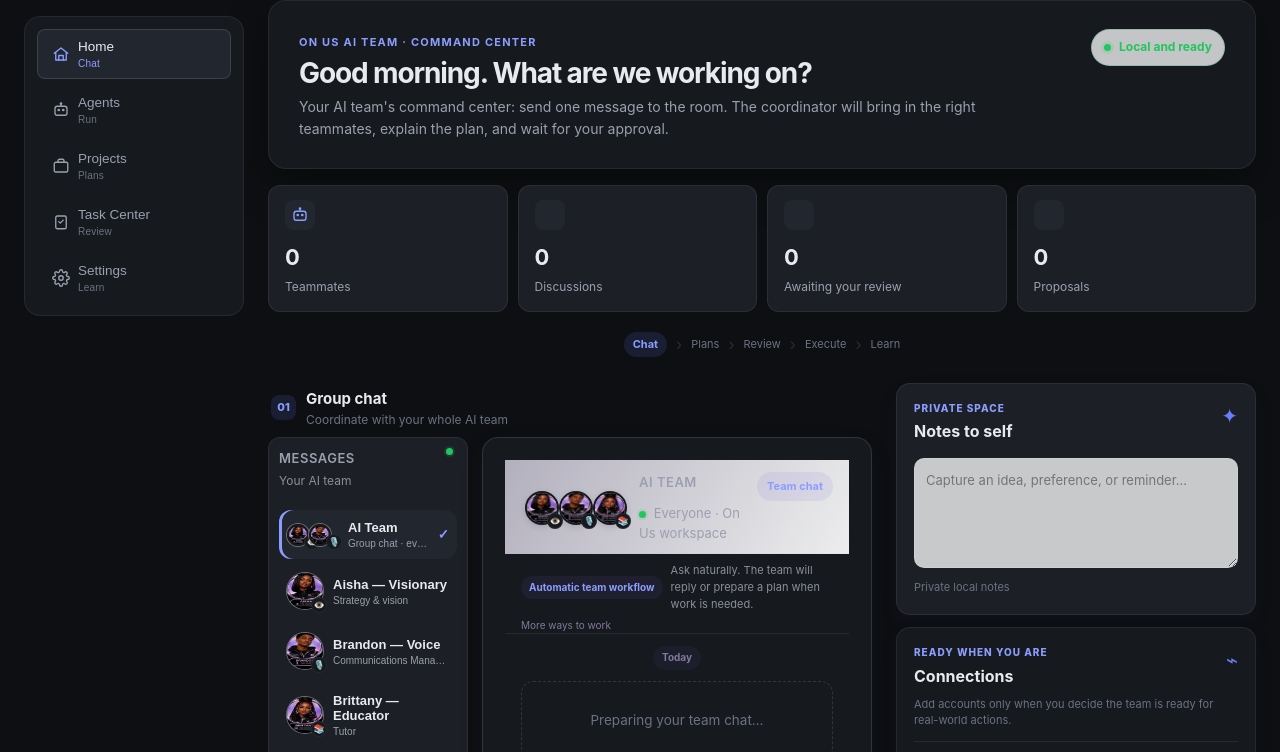
Test: Phase 4 — Task Center, Settings, conversation-to-task › opens the originating conversation from a task in the Task Center
Click the button "Task Center Review": (134, 222) [37,197,231,247]
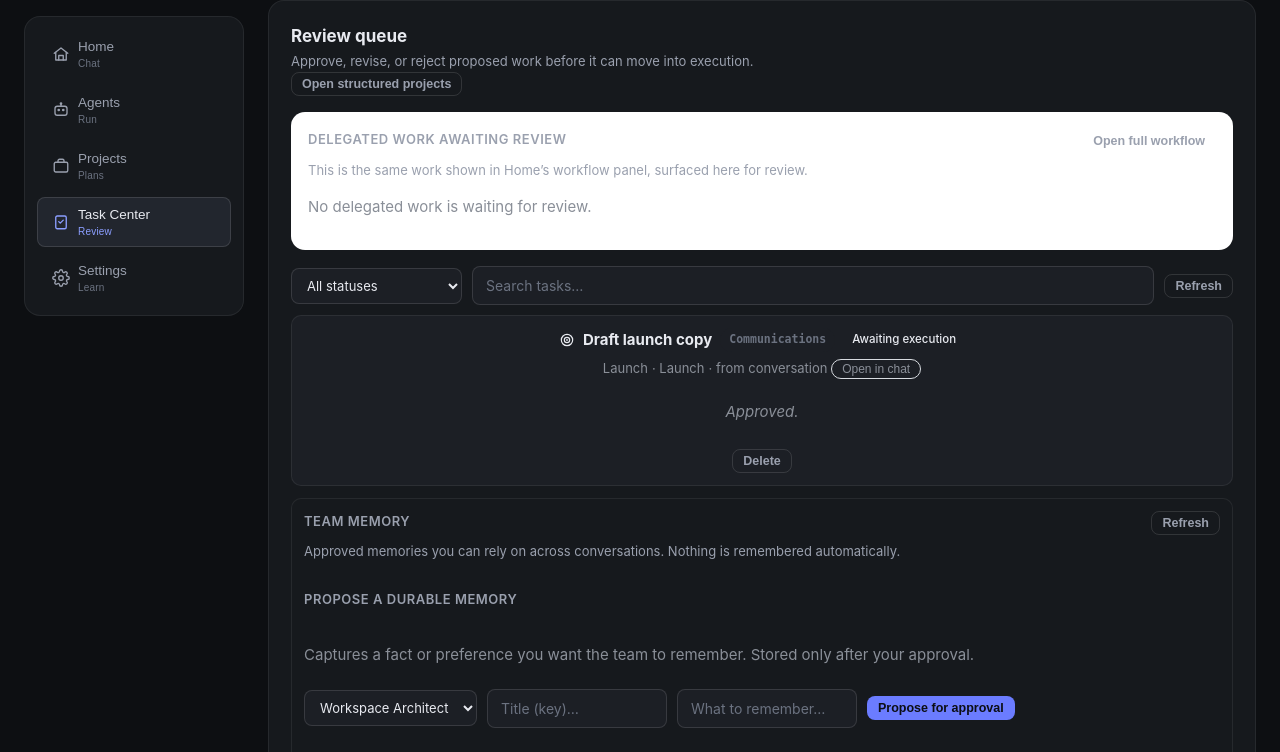
Now the button with test id "task-open-chat-t9" reads "Open in chat"
Click the button with test id "task-open-chat-t9": (876, 369) [831,359,921,379]
(page scrolled)
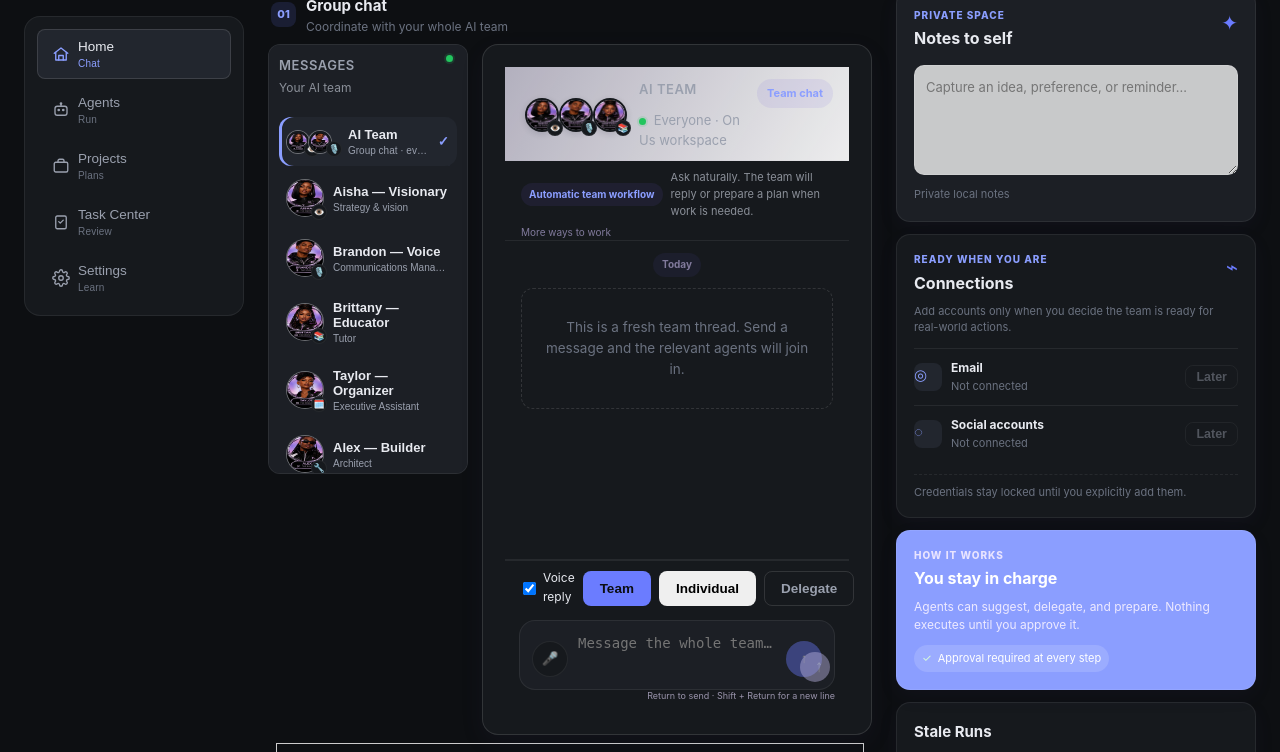
Now the element with test id "team-chat-list" is shown, box [505,240,849,560]
